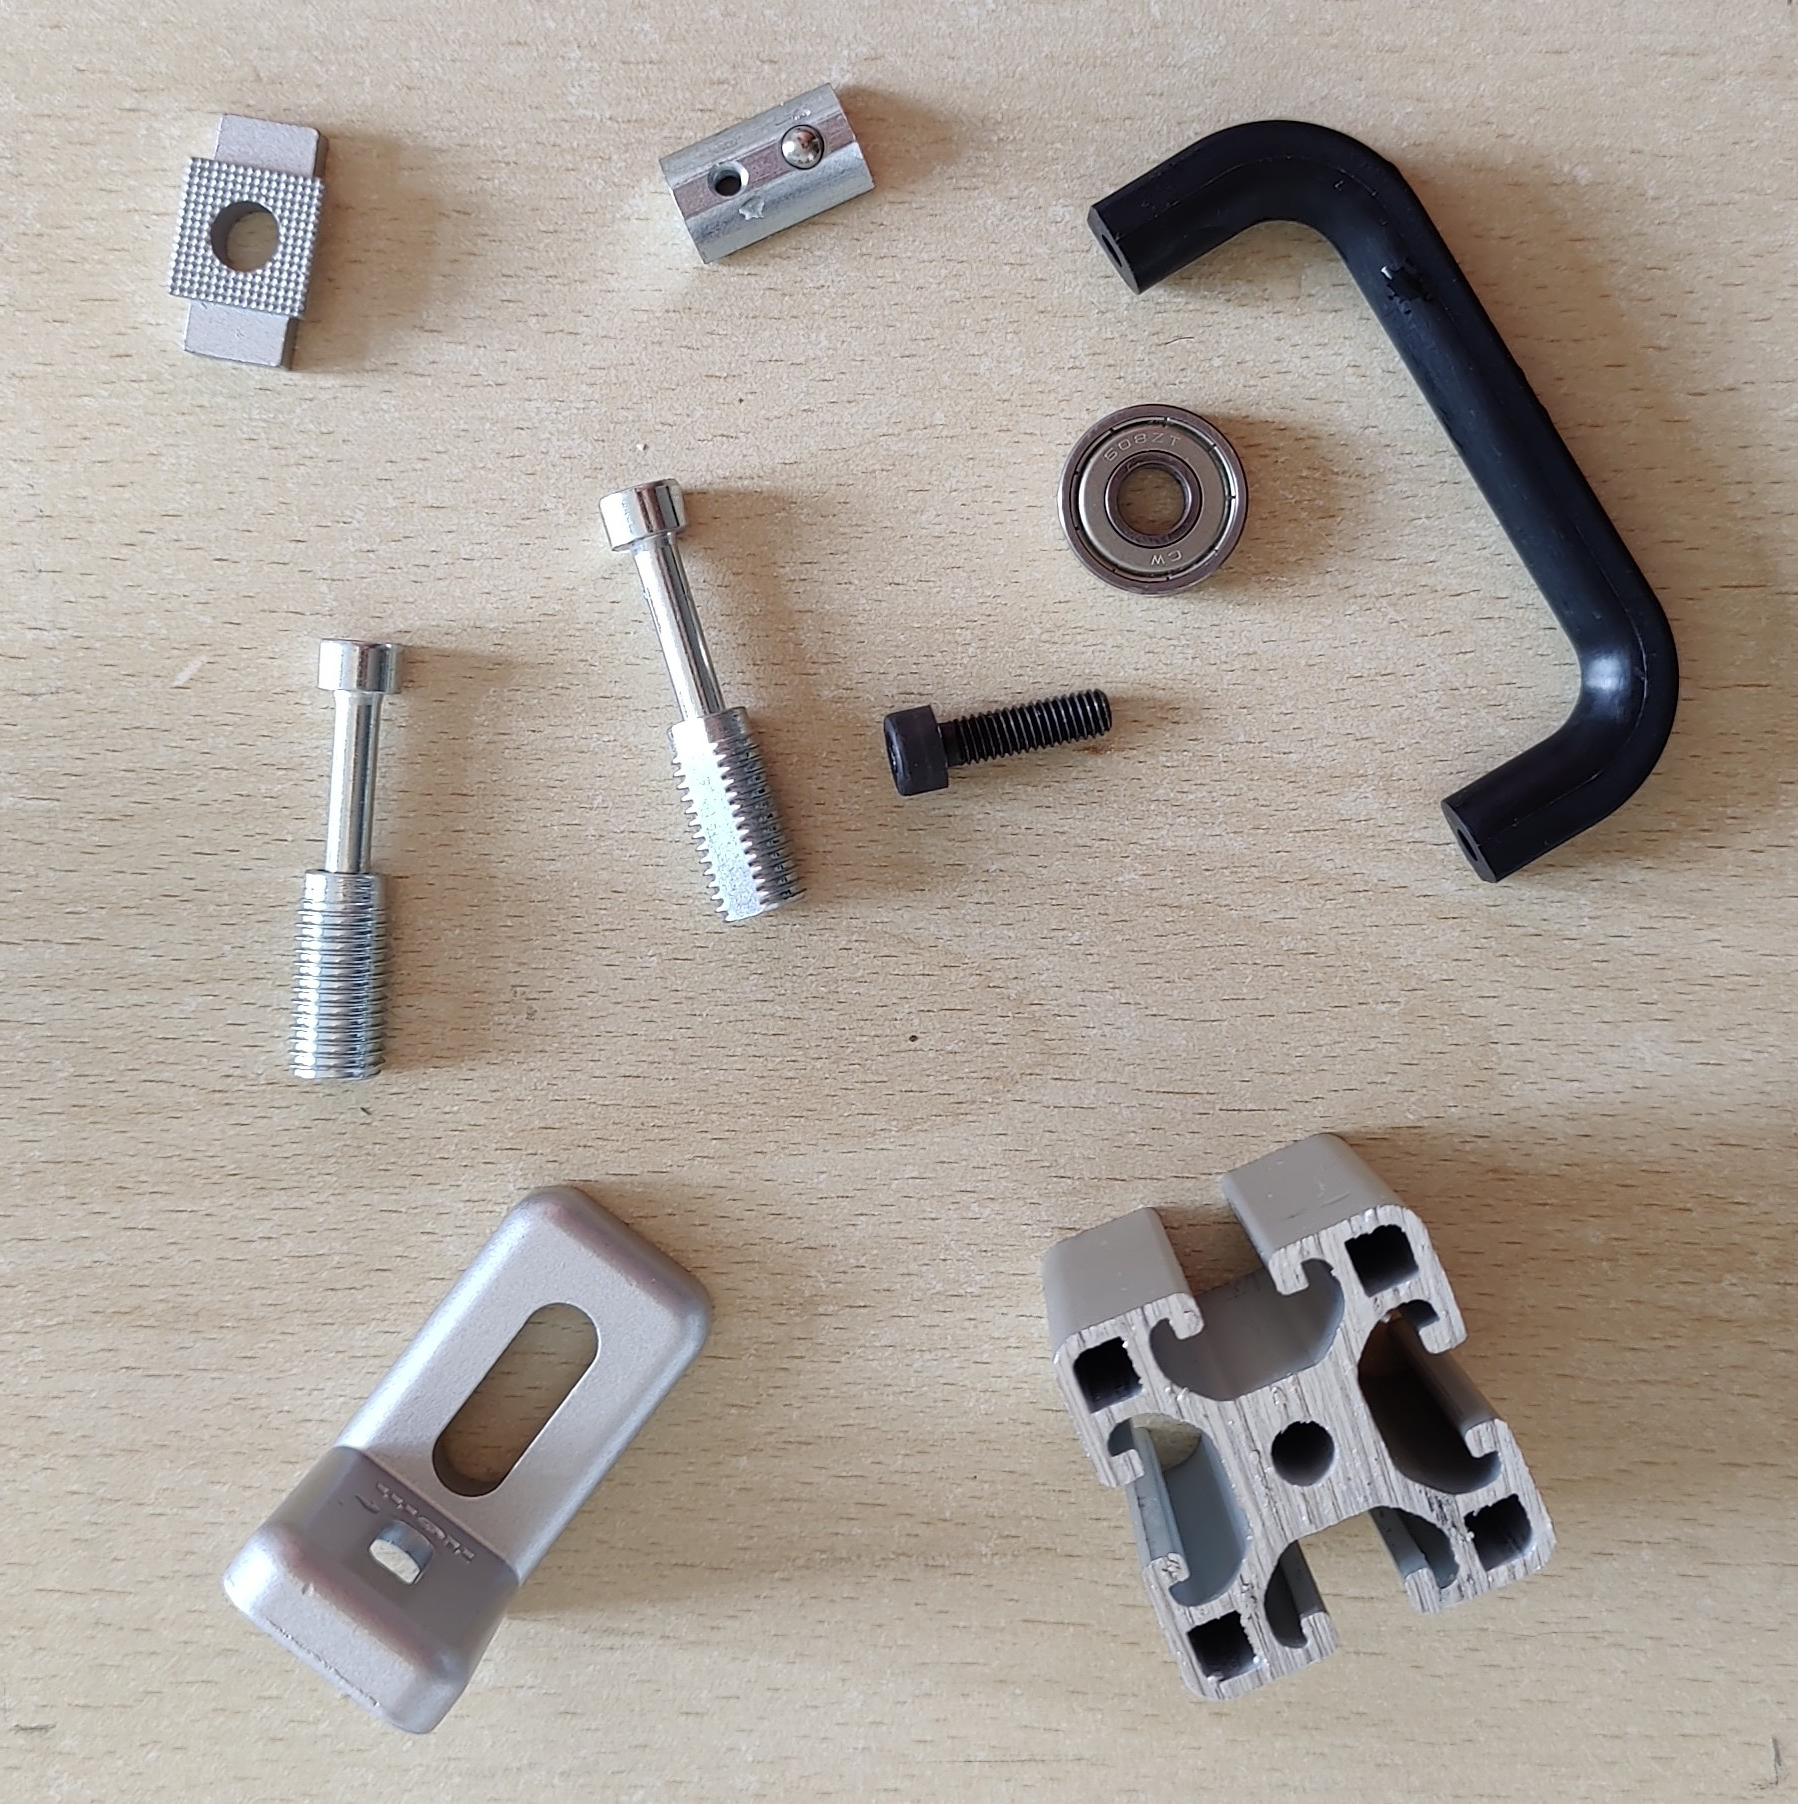Aluminium Extension: (1039, 1131, 1556, 1707)
Ball Bearing: (1055, 400, 1251, 597)
Multiwinkel: (219, 1183, 718, 1737)
Pull Handle: (1085, 115, 1681, 886)
Shoulder Socket Head Cap Screw: (598, 477, 813, 928), (283, 639, 410, 1086)
Socket Head Cap Screw: (881, 685, 1116, 798)
T Nut Square: (165, 112, 333, 374)
T Spring Nut: (655, 79, 878, 268)
